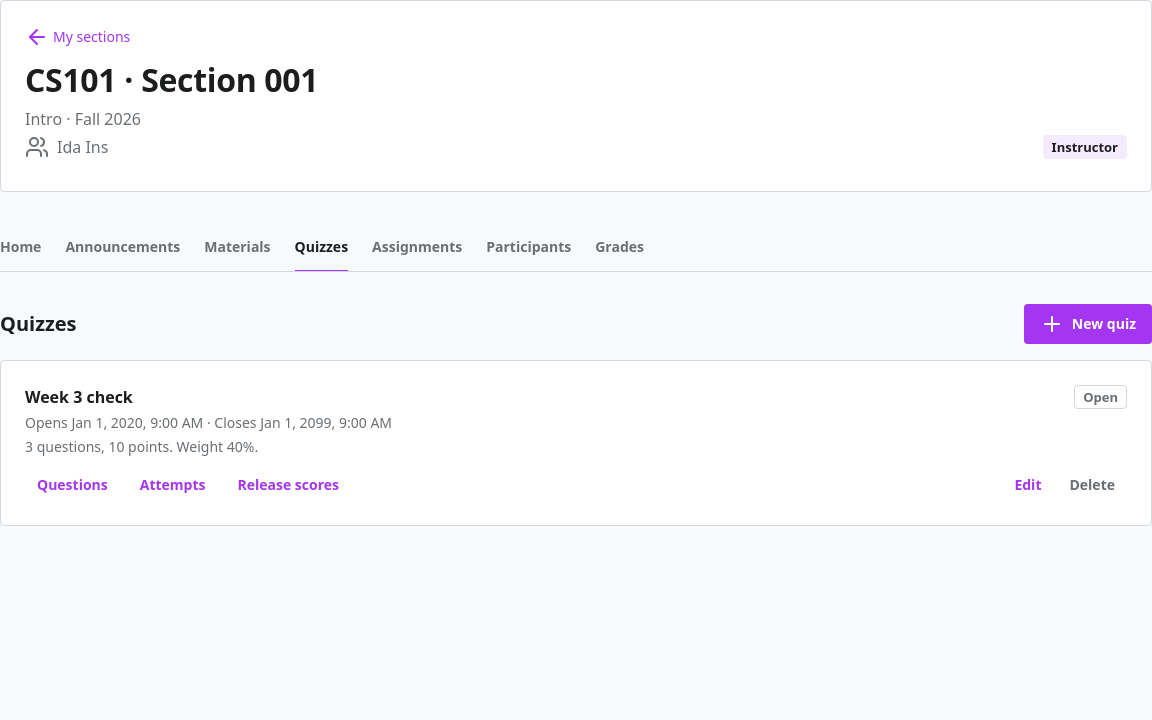
Test: Release asks first, PATCHes published true and announces; Hide acts at once
The image size is (1152, 720).
What coordinates should you click on to do the following:
click the button with aria-label "Release scores for Week 3 check"
I would click on:
 (288, 485)
Its box is [226,469,351,501].
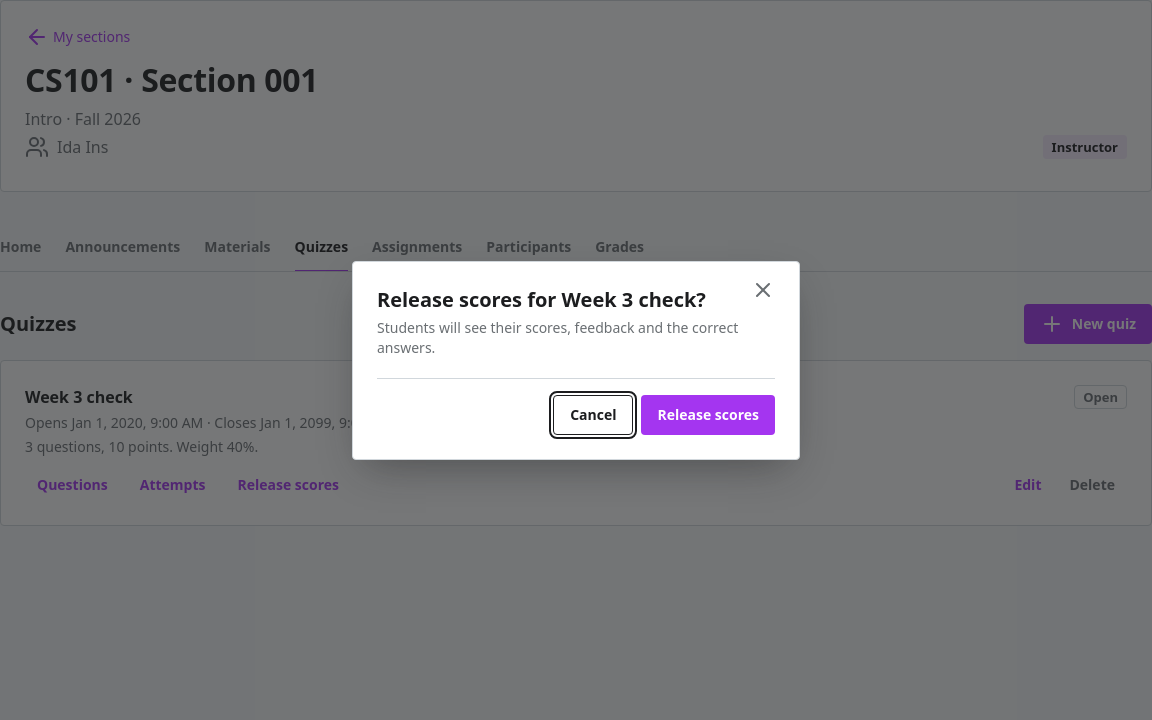
expect the dialog "Release scores for Week 3 check?" is shown: met, box [352,260,800,460]
What coordinates should you click on to do the following:
click the button "Release scores" below "Release scores for Week 3 check?"
I would click on:
 (708, 414)
Its box is [642,394,775,434].
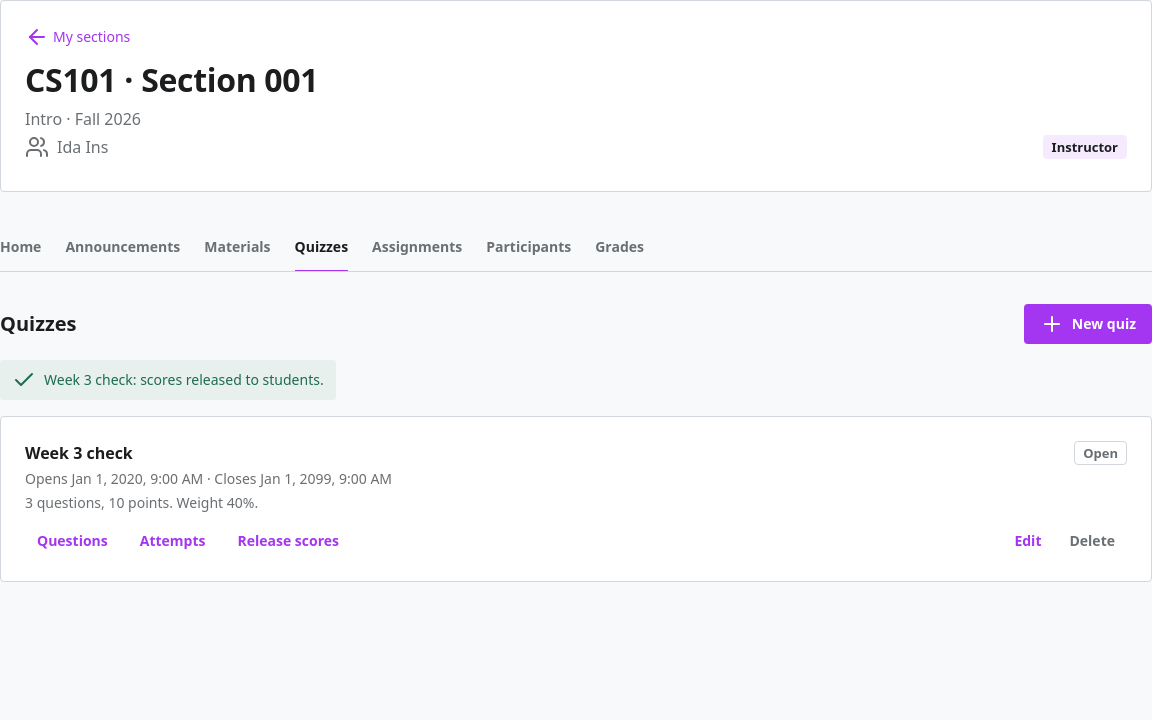
expect the text "Week 3 check: scores released to students." is shown: met, box [0,360,336,400]
